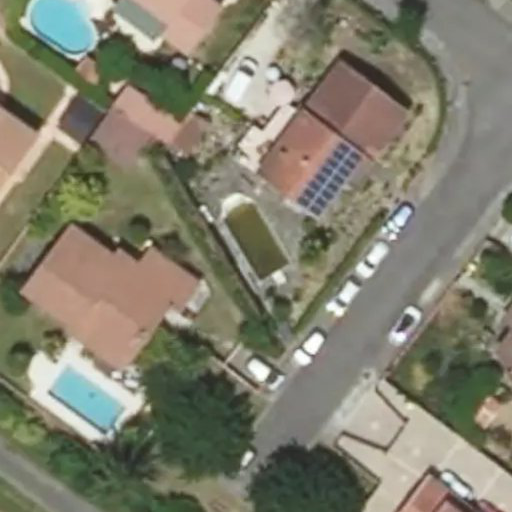pool: (220, 219, 291, 264)
